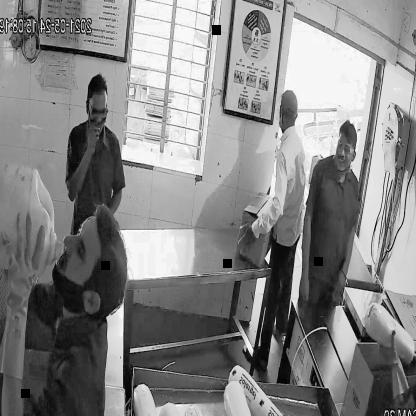goggles: (85, 98, 109, 122), (334, 138, 358, 160)
no_goggles: (71, 213, 90, 308)
